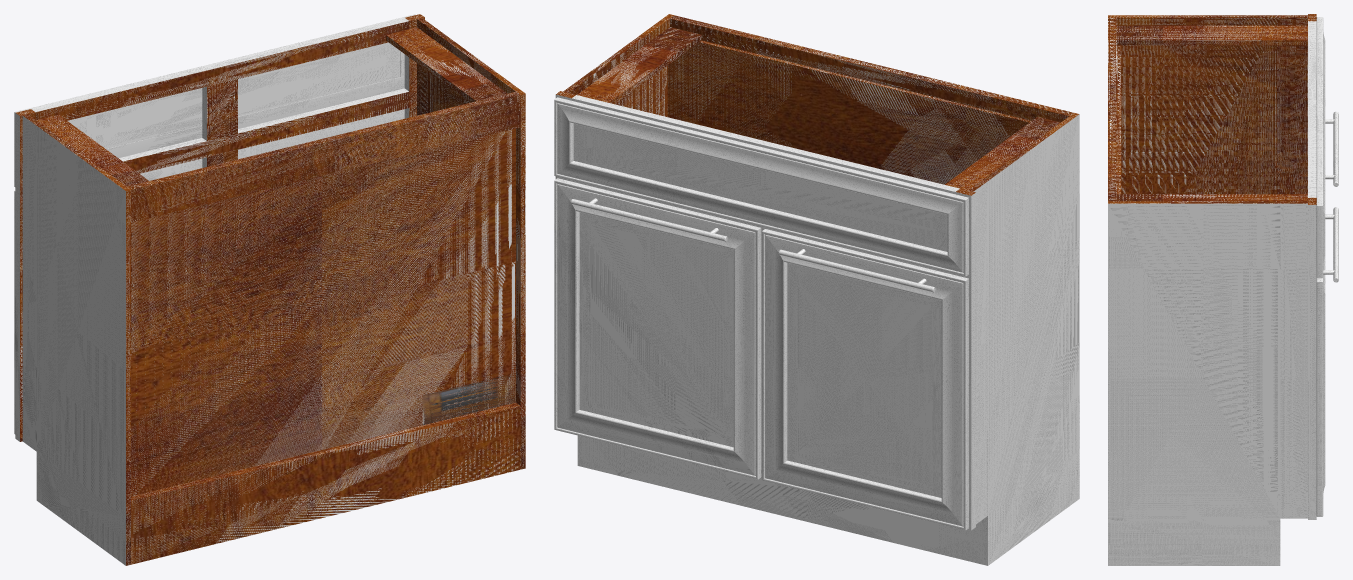
The picture shows the model from 3 angles, left to right: view 1: azimuth 30°, elevation 25°; view 2: azimuth 150°, elevation 25°; view 3: azimuth 270°, elevation 25°; orthographic projection. The views are drawn at different scales.
Visible parts, largest first — view 1: mesh4_mesh4-geometry, mesh7_mesh7-geometry, mesh13_mesh13-geometry, mesh3_mesh3-geometry, mesh5_mesh5-geometry, mesh23_mesh23-geometry, mesh10_mesh10-geometry, mesh6_mesh6-geometry, mesh8_mesh8-geometry, mesh25_mesh25-geometry, mesh2_mesh2-geometry, mesh15_mesh15-geometry (+6 smaller); view 2: mesh7_mesh7-geometry, mesh4_mesh4-geometry, mesh45_mesh45-geometry, mesh32_mesh32-geometry, mesh14_mesh14-geometry, mesh22_mesh22-geometry, mesh24_mesh24-geometry, mesh25_mesh25-geometry, mesh3_mesh3-geometry, mesh35_mesh35-geometry, mesh34_mesh34-geometry, mesh50_mesh50-geometry (+28 smaller); view 3: mesh10_mesh10-geometry, mesh7_mesh7-geometry, mesh9_mesh9-geometry, mesh11_mesh11-geometry, mesh6_mesh6-geometry, mesh16_mesh16-geometry, mesh2_mesh2-geometry, mesh34_mesh34-geometry, mesh3_mesh3-geometry, mesh24_mesh24-geometry, mesh5_mesh5-geometry, mesh15_mesh15-geometry (+6 smaller).
Boxes of the visible parts, box(x1,y1,x2,y2) form: mesh4_mesh4-geometry: box(131, 128, 515, 496); mesh7_mesh7-geometry: box(36, 124, 130, 516); mesh13_mesh13-geometry: box(131, 402, 520, 564); mesh3_mesh3-geometry: box(127, 91, 520, 222); mesh5_mesh5-geometry: box(31, 18, 409, 173); mesh23_mesh23-geometry: box(70, 45, 385, 146); mesh10_mesh10-geometry: box(431, 28, 525, 420); mesh6_mesh6-geometry: box(22, 114, 41, 451); mesh8_mesh8-geometry: box(36, 452, 130, 565); mesh25_mesh25-geometry: box(103, 78, 386, 158); mesh2_mesh2-geometry: box(15, 14, 424, 441); mesh15_mesh15-geometry: box(386, 27, 506, 102); mesh7_mesh7-geometry: box(983, 113, 1079, 515); mesh4_mesh4-geometry: box(667, 40, 1031, 184); mesh45_mesh45-geometry: box(798, 274, 932, 485); mesh32_mesh32-geometry: box(591, 223, 724, 434); mesh14_mesh14-geometry: box(583, 437, 982, 564); mesh22_mesh22-geometry: box(588, 128, 934, 245); mesh24_mesh24-geometry: box(586, 105, 935, 211); mesh25_mesh25-geometry: box(586, 162, 934, 268); mesh3_mesh3-geometry: box(670, 15, 1073, 122); mesh35_mesh35-geometry: box(724, 255, 761, 444); mesh34_mesh34-geometry: box(554, 215, 590, 402); mesh50_mesh50-geometry: box(932, 306, 968, 495); mesh10_mesh10-geometry: box(1108, 201, 1280, 518); mesh7_mesh7-geometry: box(1108, 15, 1280, 194); mesh9_mesh9-geometry: box(1280, 201, 1307, 518); mesh11_mesh11-geometry: box(1108, 518, 1280, 565); mesh6_mesh6-geometry: box(1280, 15, 1307, 194); mesh16_mesh16-geometry: box(1116, 25, 1307, 45); mesh2_mesh2-geometry: box(1308, 14, 1316, 519); mesh34_mesh34-geometry: box(1316, 305, 1325, 483); mesh3_mesh3-geometry: box(1108, 17, 1116, 201); mesh24_mesh24-geometry: box(1316, 32, 1325, 205); mesh5_mesh5-geometry: box(1308, 21, 1316, 197); mesh15_mesh15-geometry: box(1116, 194, 1307, 201).
Bounding box in the file's own units: 0.6996 × 0.6189 × 0.3572.
